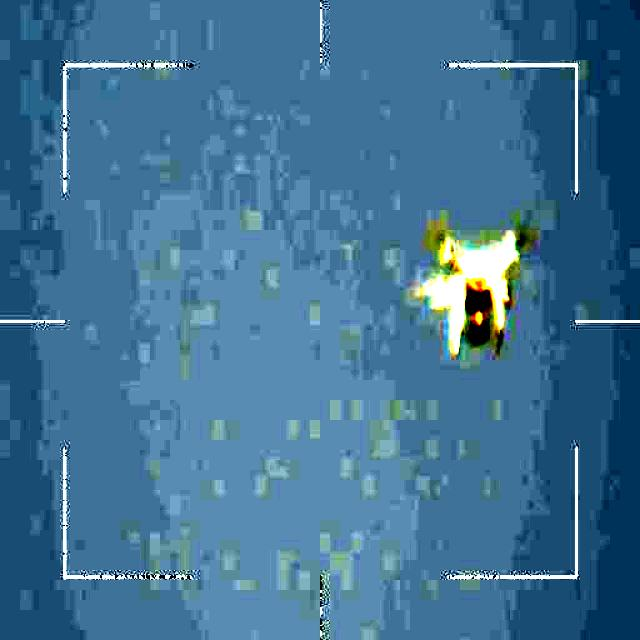bird: (418, 232, 530, 360)
